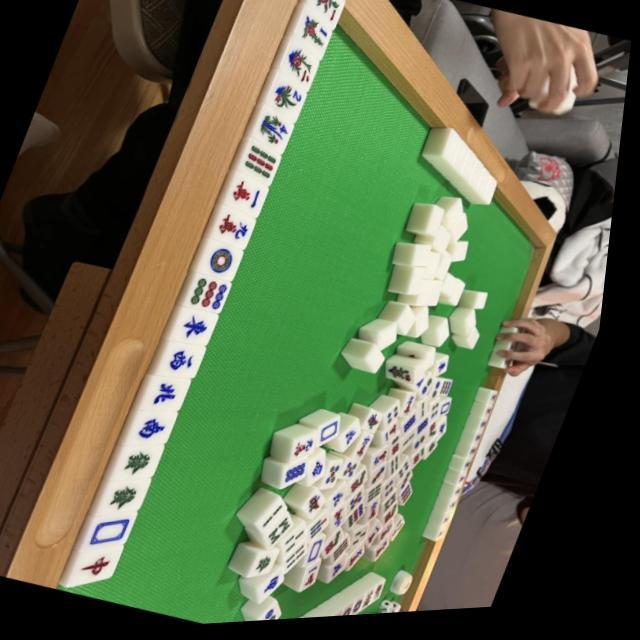bf1: (291, 15, 337, 56)
bf2: (264, 81, 309, 118)
bf4: (250, 115, 298, 155)
bs1: (301, 0, 351, 29)
bs2: (276, 48, 324, 91)
hdg: (114, 477, 156, 517), (128, 446, 168, 484)
hdr: (86, 548, 132, 586)
hdw: (98, 511, 146, 556)
hwe: (178, 310, 224, 349)
hwn: (152, 376, 194, 414)
hws: (138, 412, 181, 449)
hww: (166, 344, 209, 381)
sb9: (240, 145, 286, 187)
sc1: (228, 176, 274, 218)
sc9: (216, 213, 260, 252)
sd1: (204, 246, 248, 284)
sd9: (192, 276, 236, 316)
